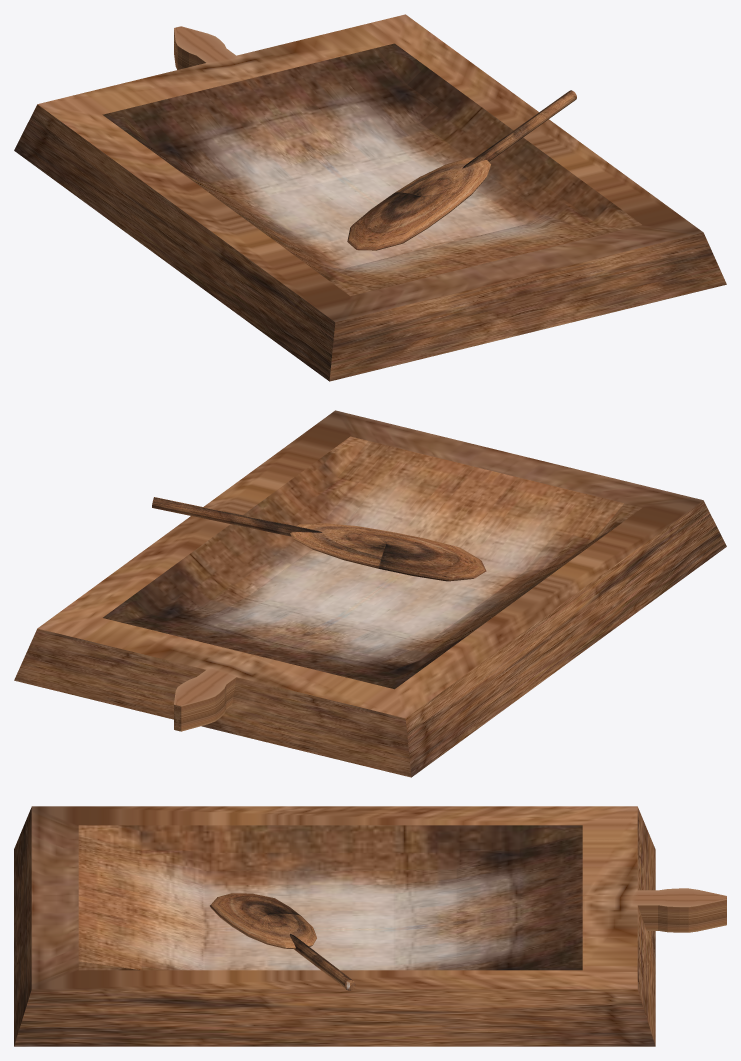
The model's file is pumput.glb.
3 renders of one model, top to bottom at view 1: azimuth 30°, elevation 25°; view 2: azimuth 150°, elevation 25°; view 3: azimuth 270°, elevation 25°, orthographic.
Visible parts, largest first — view 1: Cube, Sphere; view 2: Cube, Sphere; view 3: Cube, Sphere.
Boxes of the visible parts, <box> form: Cube: <box>14,14,726,381</box>; Sphere: <box>347,90,576,250</box>; Cube: <box>14,410,726,777</box>; Sphere: <box>152,497,486,581</box>; Cube: <box>14,806,726,1046</box>; Sphere: <box>210,893,355,990</box>.
Bounding box in the file's own units: 1.59 × 0.2613 × 2.35.
1 material, 1 textured.
